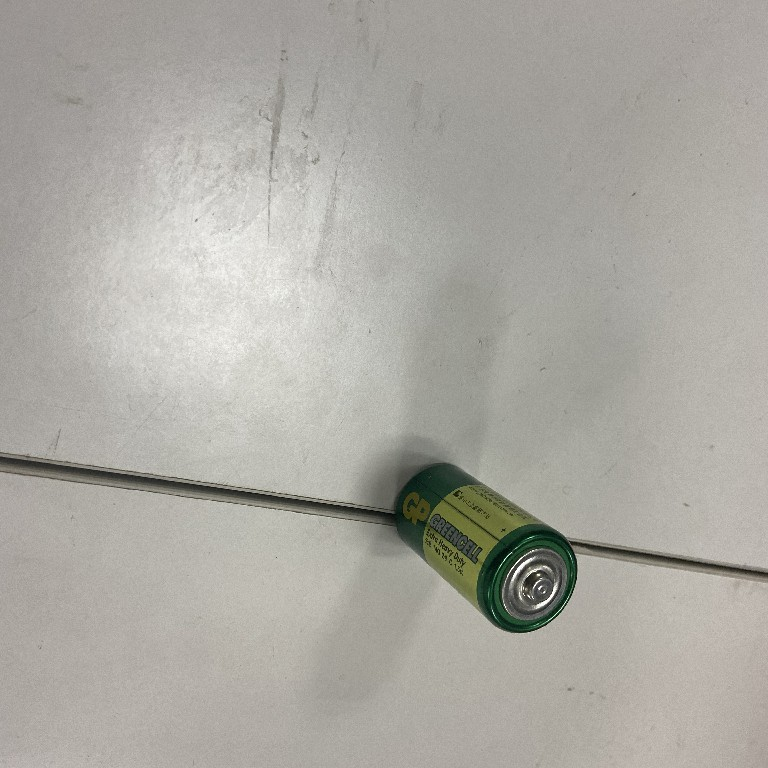charge: (391, 457, 583, 639)
